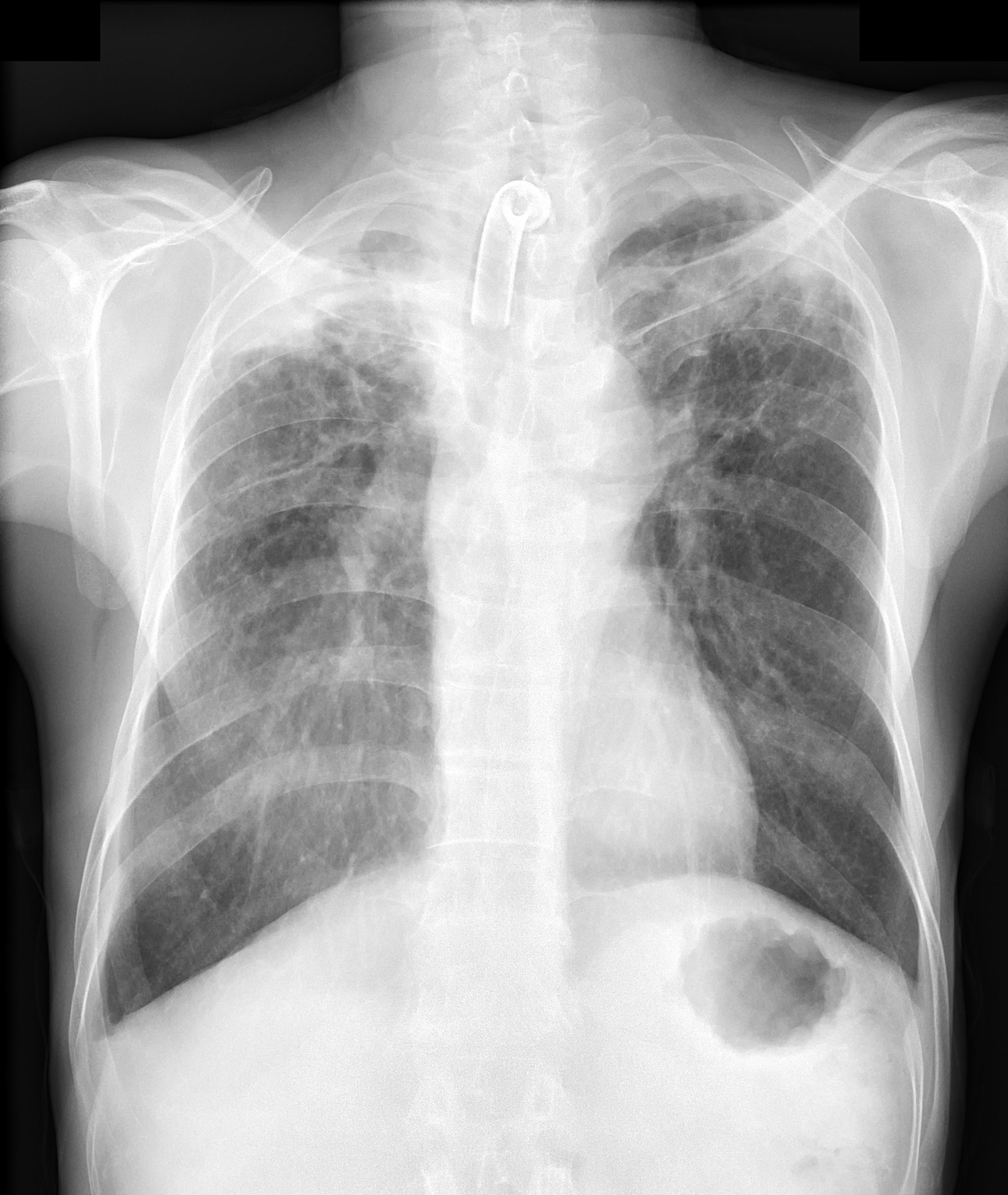Pleural thickening: (580, 133, 797, 267)
Pulmonary fibrosis: (619, 217, 864, 498), (198, 300, 427, 563), (214, 198, 410, 378)
